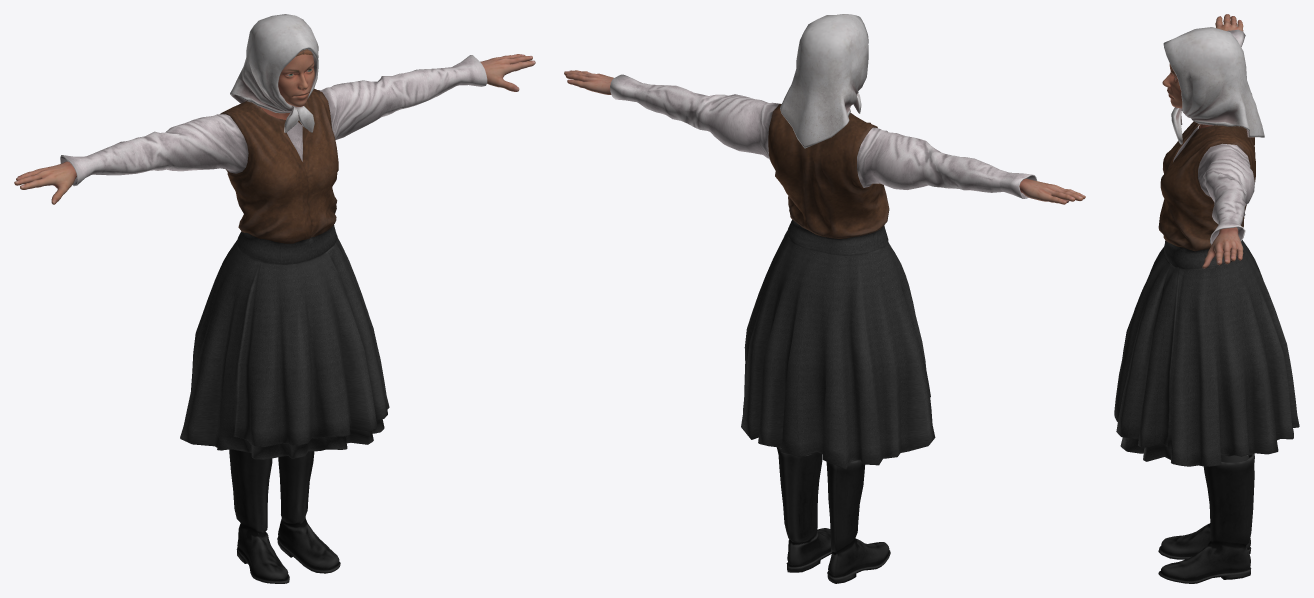
The model's file is WomanTest.obj.
3 views of the same model, side by side, from view 1: azimuth 30°, elevation 25°; view 2: azimuth 150°, elevation 25°; view 3: azimuth 270°, elevation 25° (orthographic). The views are drawn at different scales.
Parts seen in each view (by area): view 1: Female_01; view 2: Female_01; view 3: Female_01.
Boxes of the visible parts, x1,y1,x2,y2 form: Female_01: (14, 14, 535, 583); Female_01: (564, 14, 1085, 583); Female_01: (1114, 14, 1299, 583).
Bounding box in the file's own units: 17.47 × 17.56 × 5.52.
1 material, 1 textured.
